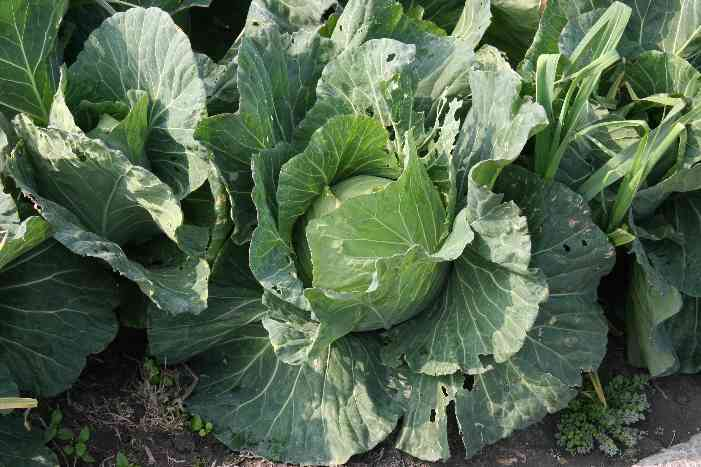cabbage: (147, 38, 613, 465), (0, 0, 204, 311)
